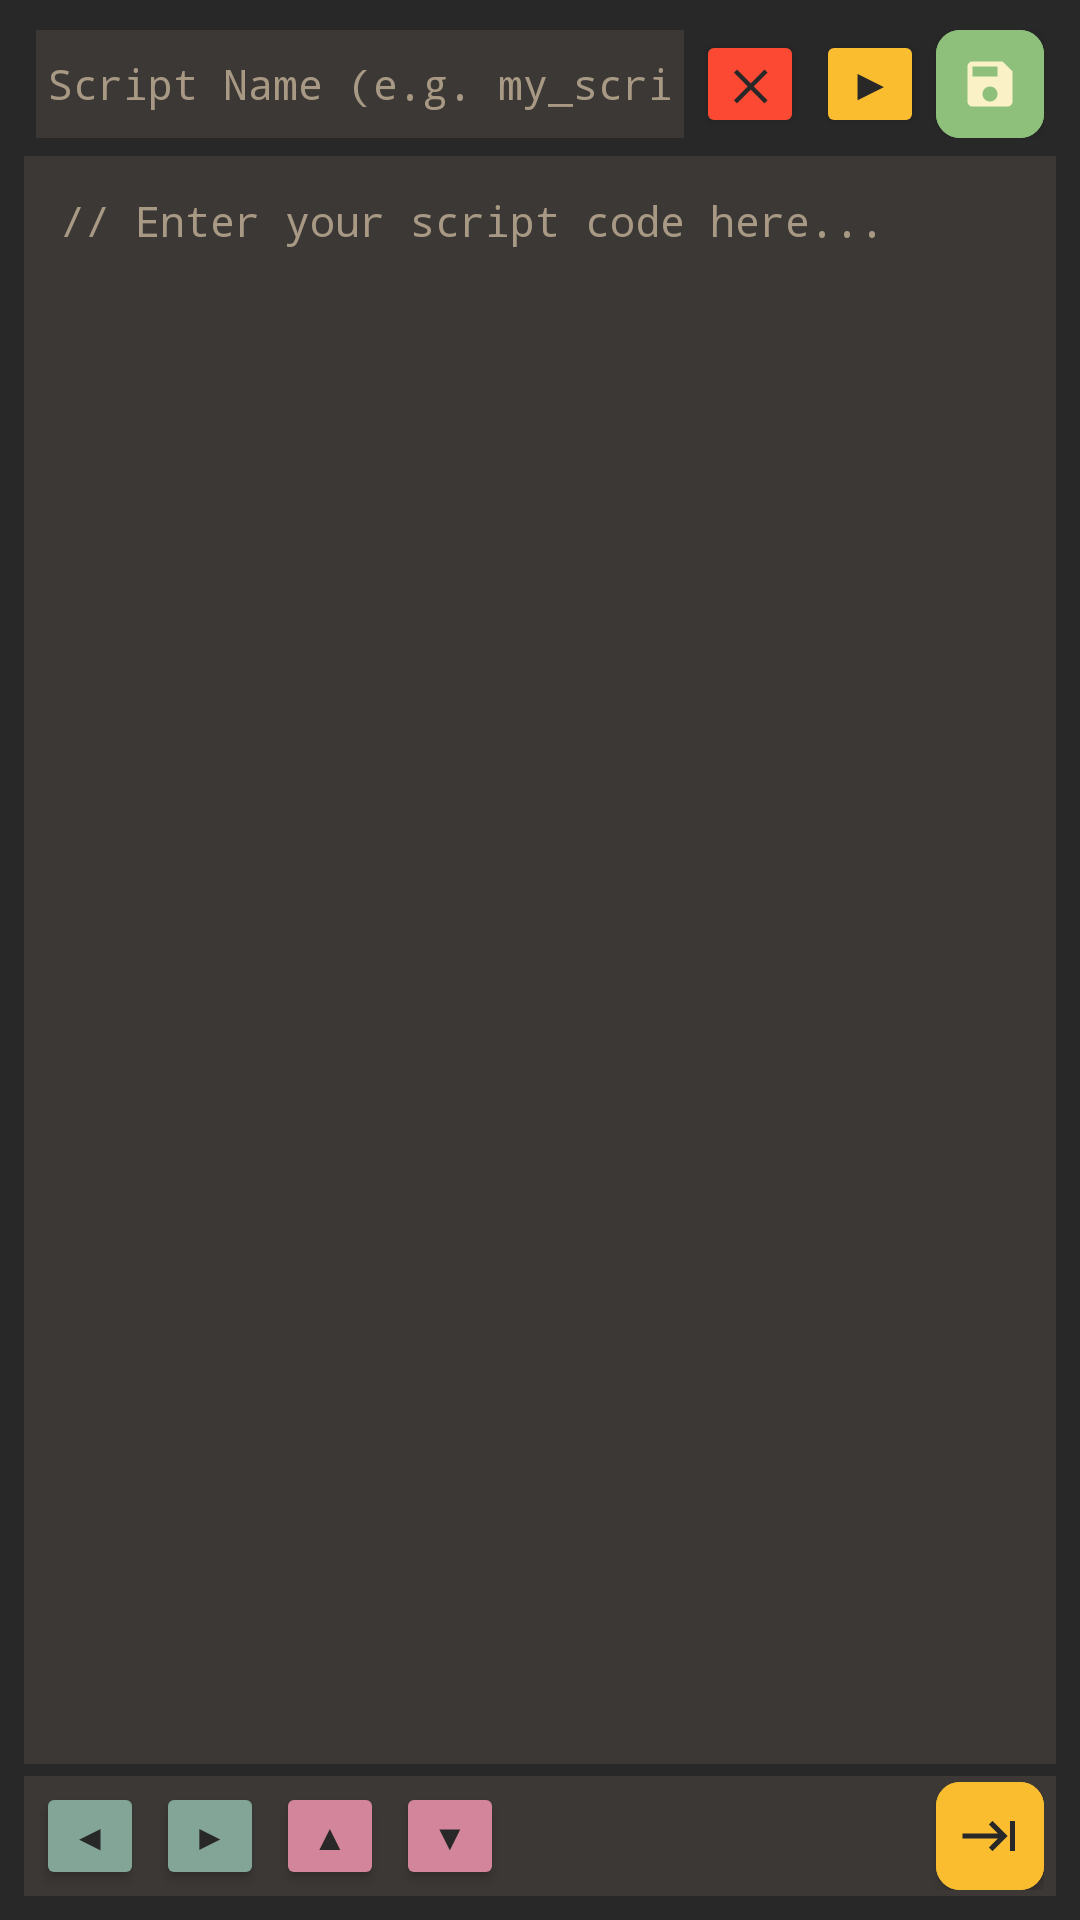

Point at icon controls on the screen. Image size 1080px x 1920px, points as point (x, y).
SAVE: point (990, 84)
Tab: point (990, 1836)
